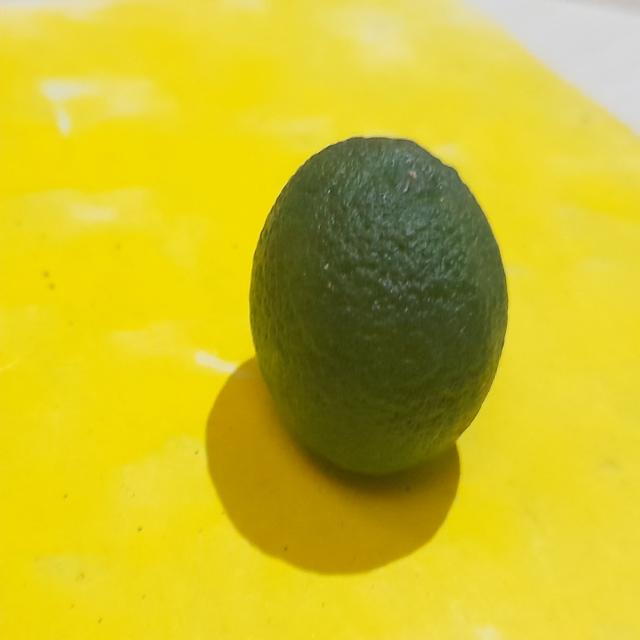heathy: (248, 134, 509, 478)
